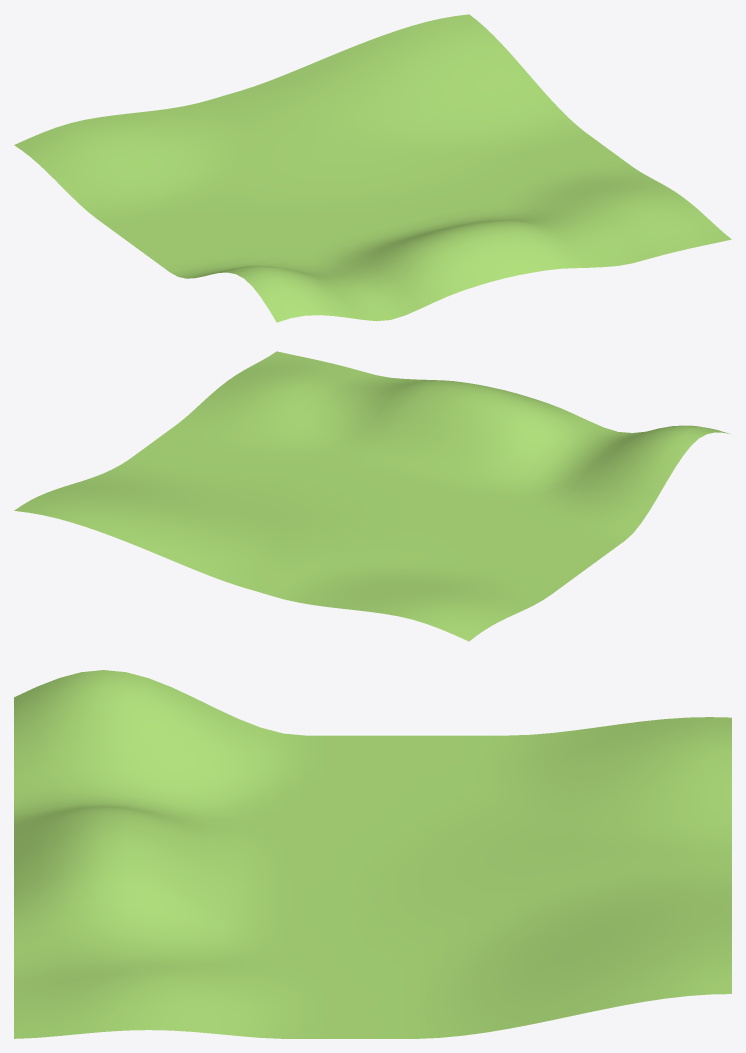
File: Ground.fbx
3 views of the same model, one above another, from view 1: azimuth 30°, elevation 25°; view 2: azimuth 150°, elevation 25°; view 3: azimuth 270°, elevation 25° (orthographic). The views are drawn at different scales.
Parts seen in each view (by area): view 1: Ground; view 2: Ground; view 3: Ground.
Boxes of the visible parts, bbox=[...] form: Ground: bbox=[14, 14, 731, 322]; Ground: bbox=[14, 351, 730, 641]; Ground: bbox=[14, 670, 731, 1038].
Size of the model in its own units: 10000 by 1043 by 10000.
